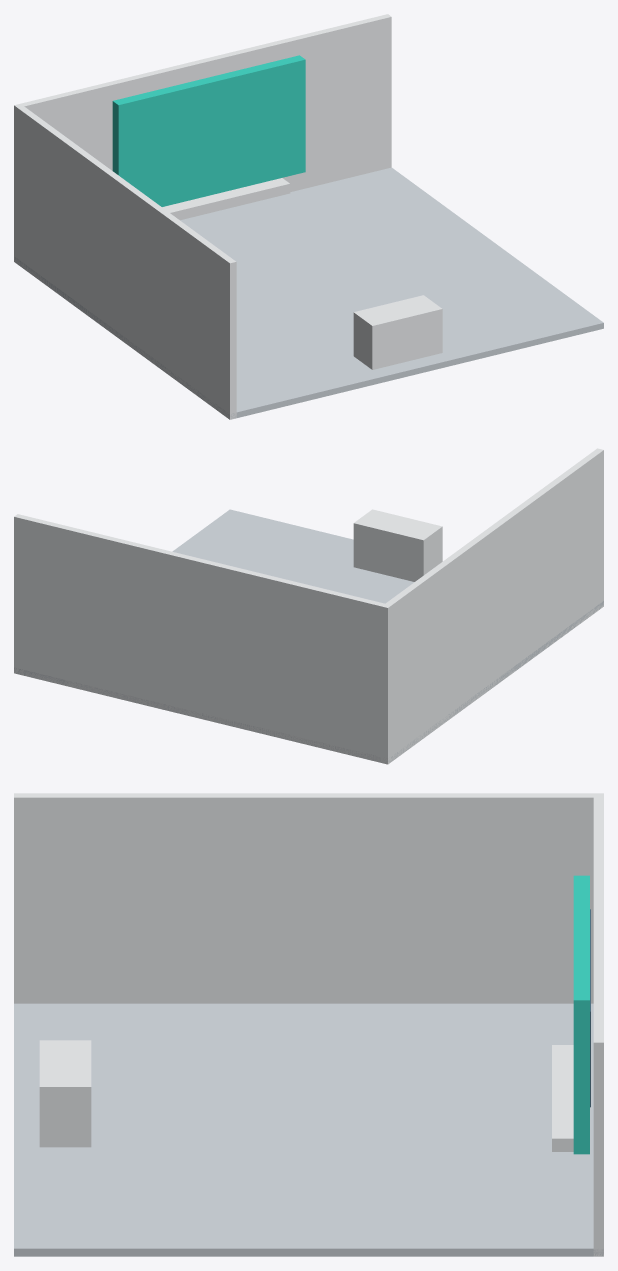
The picture shows the model from 3 angles, top to bottom: view 1: azimuth 30°, elevation 25°; view 2: azimuth 150°, elevation 25°; view 3: azimuth 270°, elevation 25°; orthographic projection. The views are drawn at different scales.
Parts seen in each view (by area): view 1: Exhibition Booth Concept; view 2: Exhibition Booth Concept; view 3: Exhibition Booth Concept.
Boxes of the visible parts, box(x1,y1,x2,y2) form: Exhibition Booth Concept: box(14, 14, 603, 419); Exhibition Booth Concept: box(14, 448, 603, 764); Exhibition Booth Concept: box(14, 793, 603, 1256).
Size of the model in its own units: 8 by 3.2 by 8.
